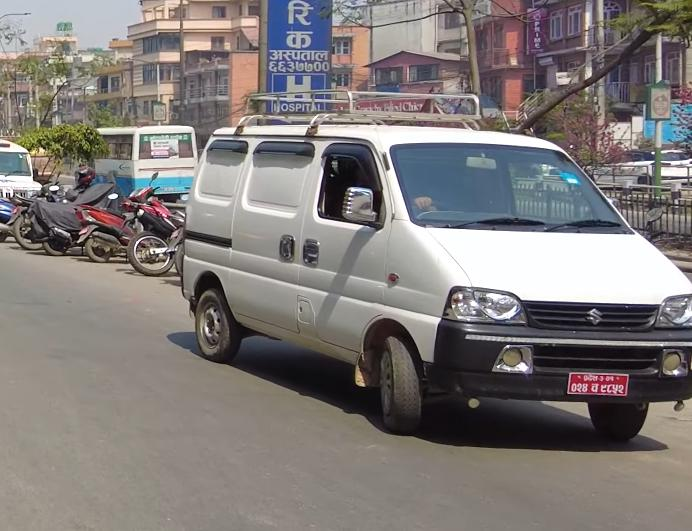bus: (81, 123, 208, 204)
van: (170, 80, 692, 472)
